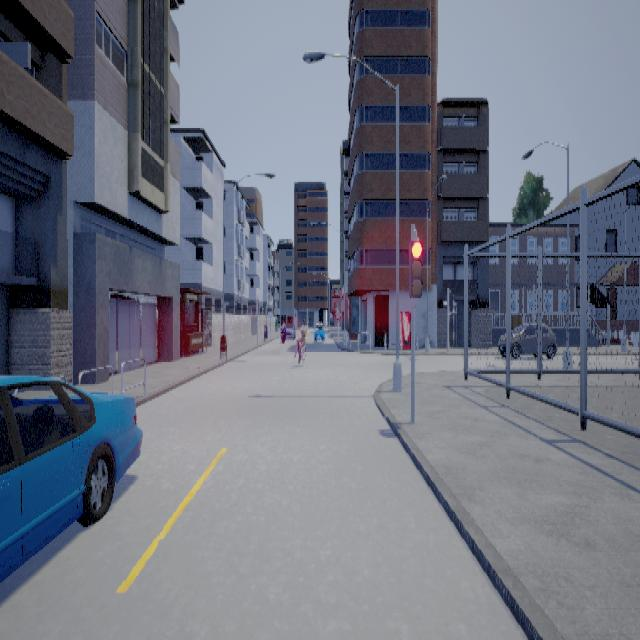bike: (290, 327, 308, 364)
red_light: (408, 228, 422, 306)
vehicle: (0, 374, 142, 581), (493, 317, 556, 357)
